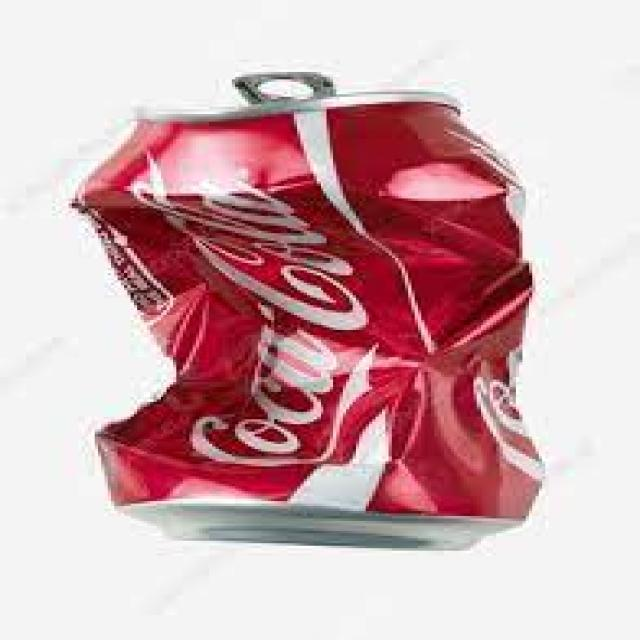aluminum_can: (72, 72, 545, 549)
